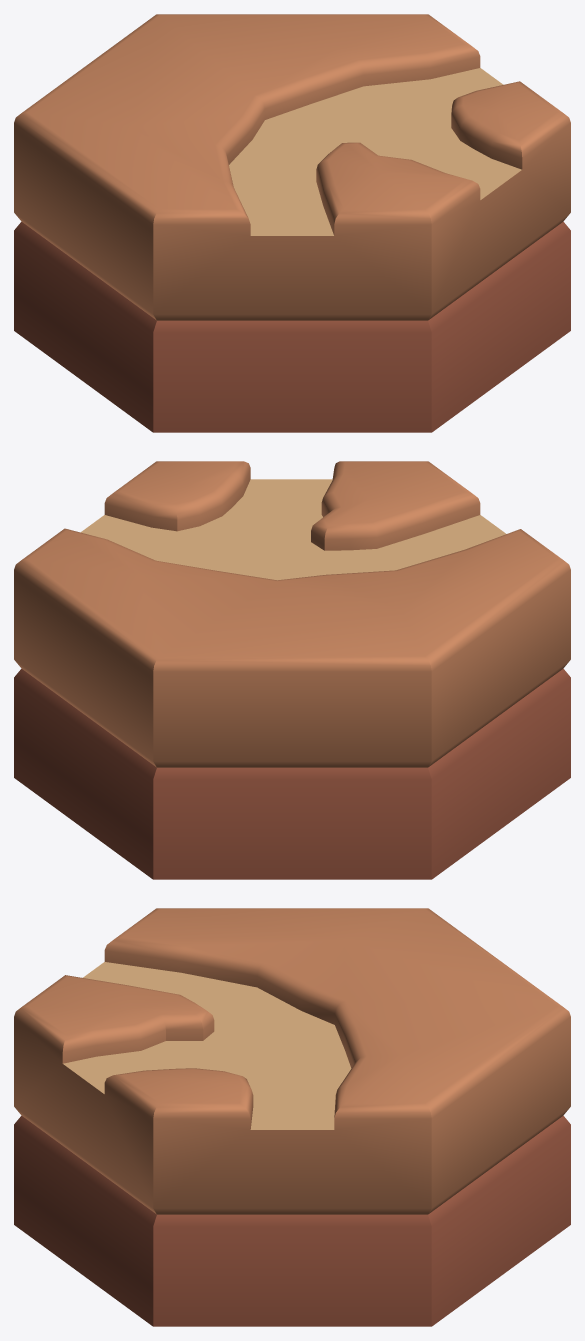
Rendered from hex_rock_roadH_detail.glb.
3 views of the same model, one above another, from view 1: azimuth 30°, elevation 25°; view 2: azimuth 150°, elevation 25°; view 3: azimuth 270°, elevation 25° (orthographic).
Parts seen in each view (by area): view 1: hex_rock_roadH_detail; view 2: hex_rock_roadH_detail; view 3: hex_rock_roadH_detail.
Part boxes in pixels (box(x1,y1,x2,y2)): hex_rock_roadH_detail: box(14, 14, 570, 432); hex_rock_roadH_detail: box(14, 461, 570, 879); hex_rock_roadH_detail: box(14, 908, 570, 1326).
Size of the model in its own units: 3.82 by 1.91 by 4.41.
